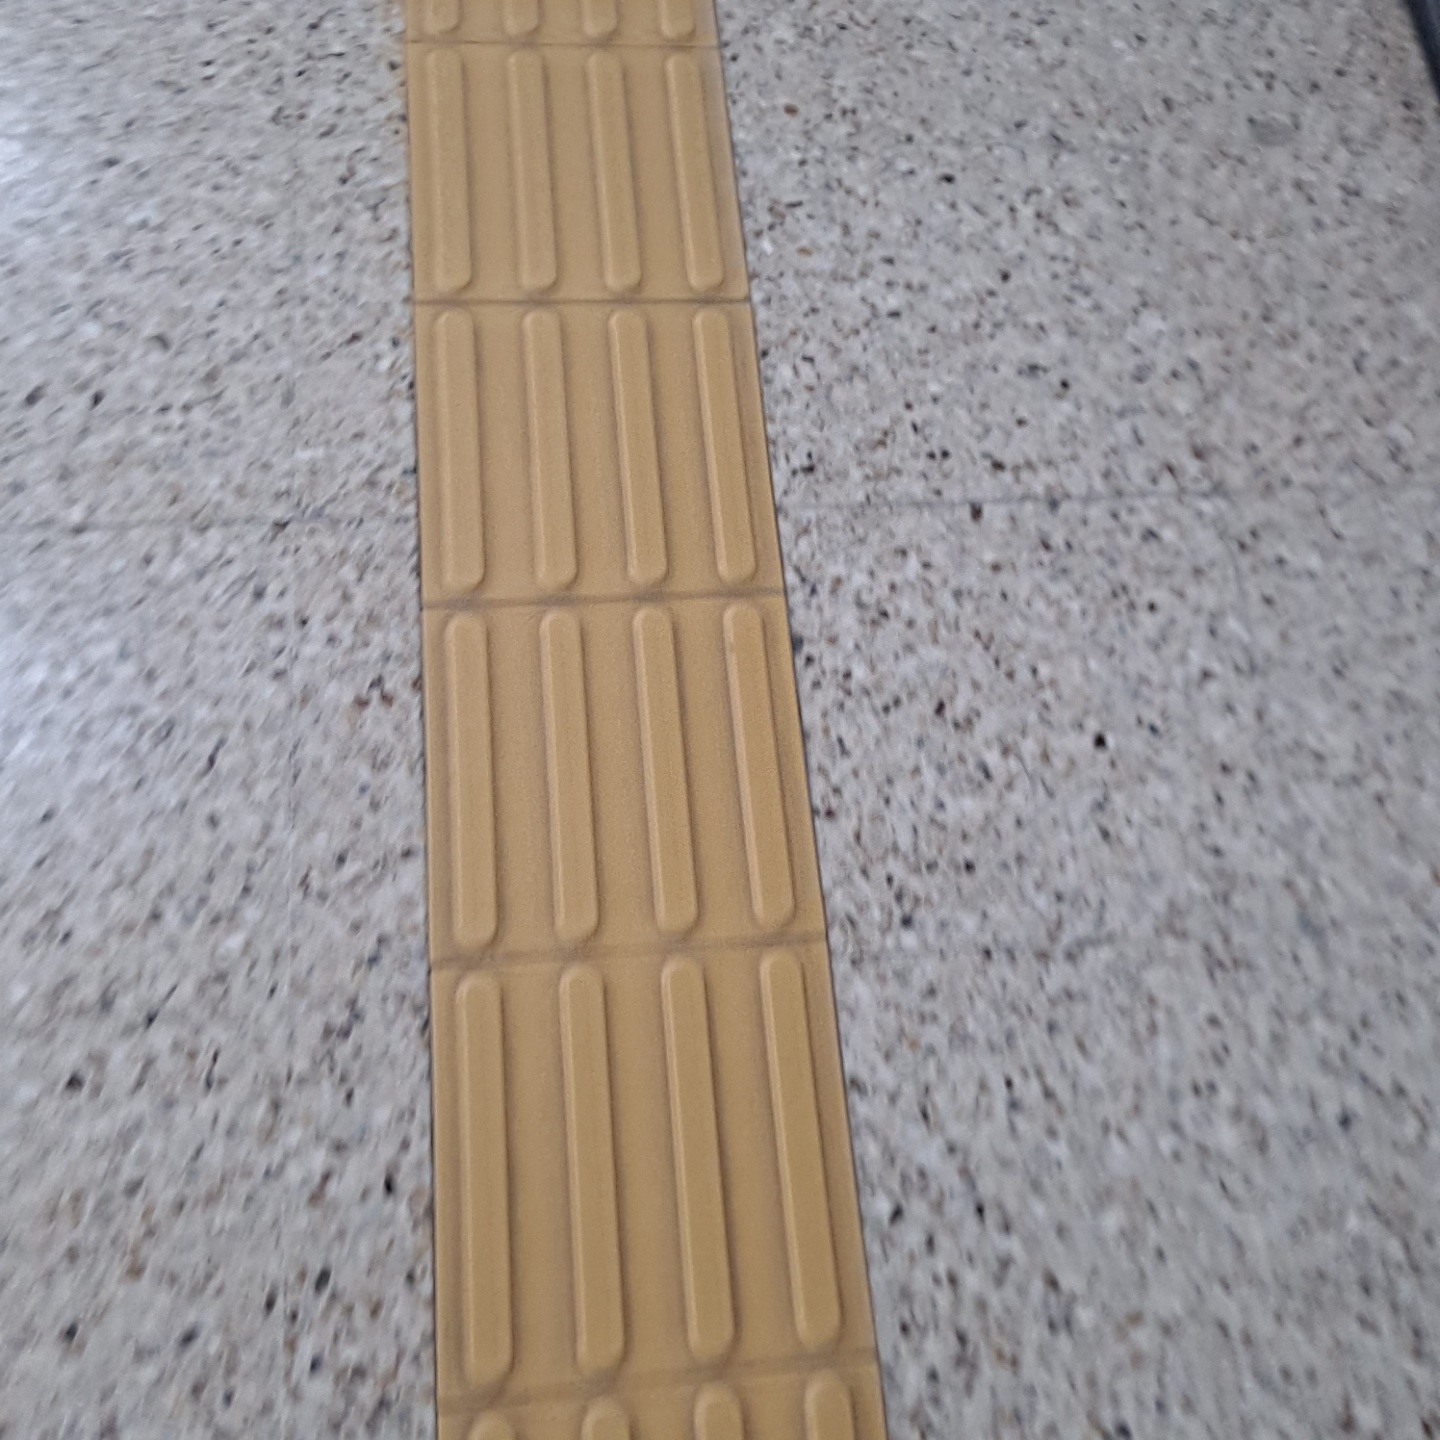guideBlock: (419, 975, 895, 1366), (419, 589, 814, 936), (404, 309, 767, 582), (417, 9, 727, 306)
